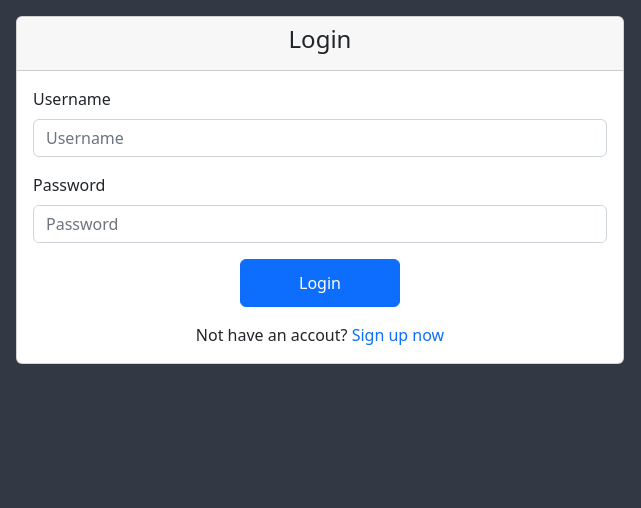
Test: Login page test › Alert error if username is empty
In the password field with placeholder "Password": (320, 224) [33, 205, 607, 243], type "abc123"
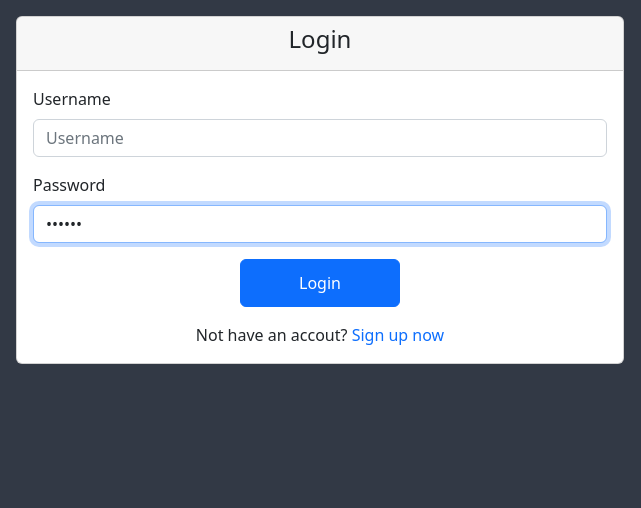
Click the button "Login": click(320, 283) [240, 259, 400, 307]
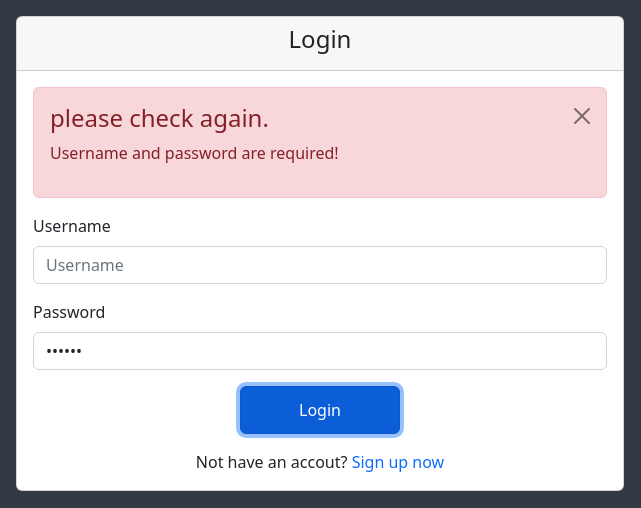
Expected: the text "Username and password are required!" is shown, [50, 142, 339, 164]
